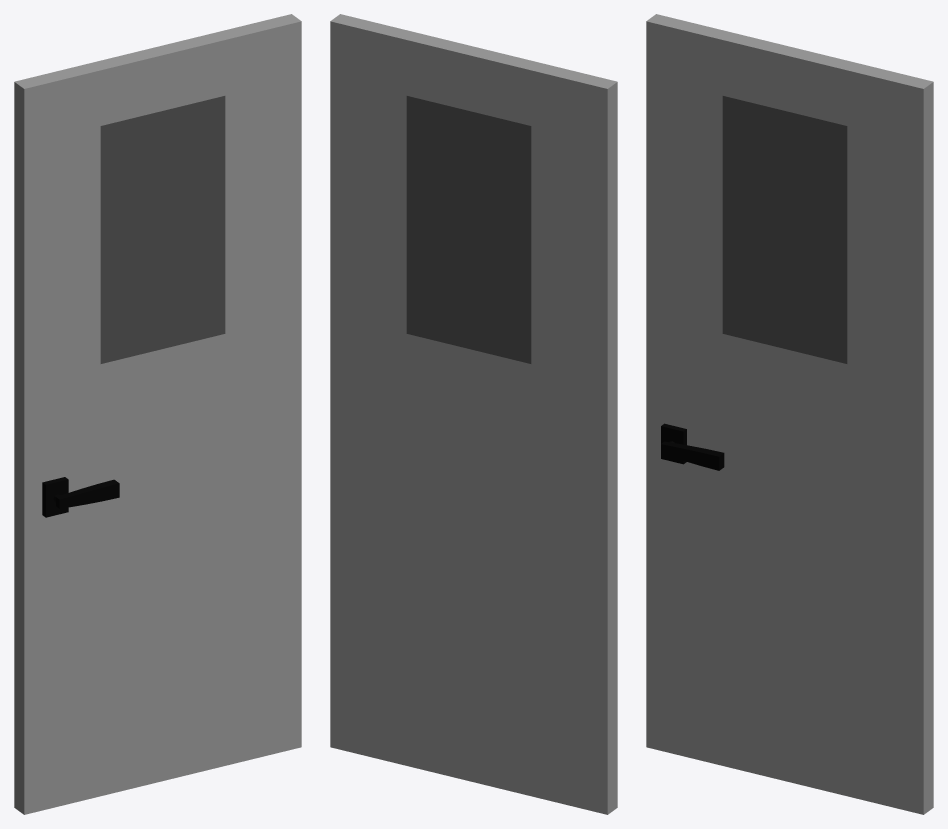
Rendered from Lifeguard_cabin_01_2.fbx.
3 views of the same model, side by side, from view 1: azimuth 30°, elevation 25°; view 2: azimuth 150°, elevation 25°; view 3: azimuth 330°, elevation 25° (orthographic).
Parts seen in each view (by area): view 1: Lifeguard_cabin_01_2; view 2: Lifeguard_cabin_01_2; view 3: Lifeguard_cabin_01_2.
Boxes of the visible parts, x1,y1,x2,y2 form: Lifeguard_cabin_01_2: (14, 14, 301, 814); Lifeguard_cabin_01_2: (330, 14, 617, 814); Lifeguard_cabin_01_2: (646, 14, 933, 814).
Size of the model in its own units: 80 by 200 by 10.58.
